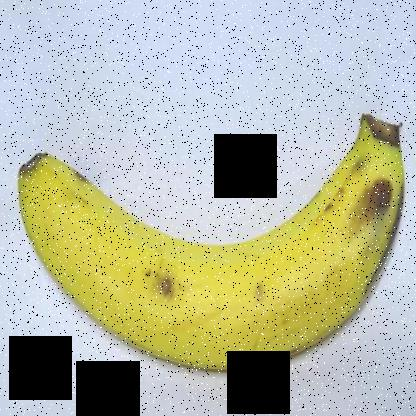freshripe: (7, 89, 415, 389)
